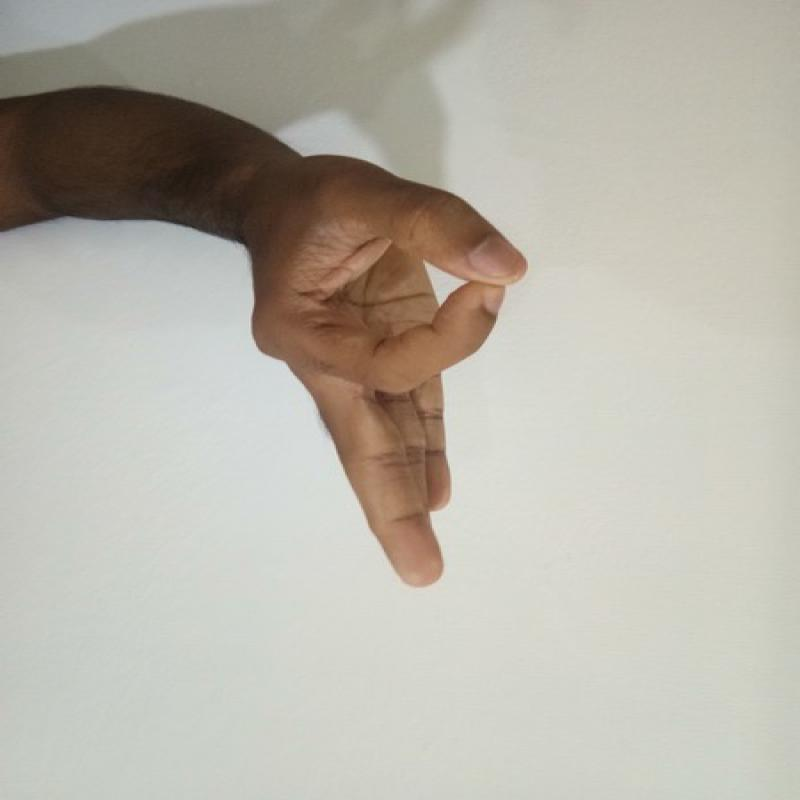Mudraakhyam: (235, 139, 533, 609)
